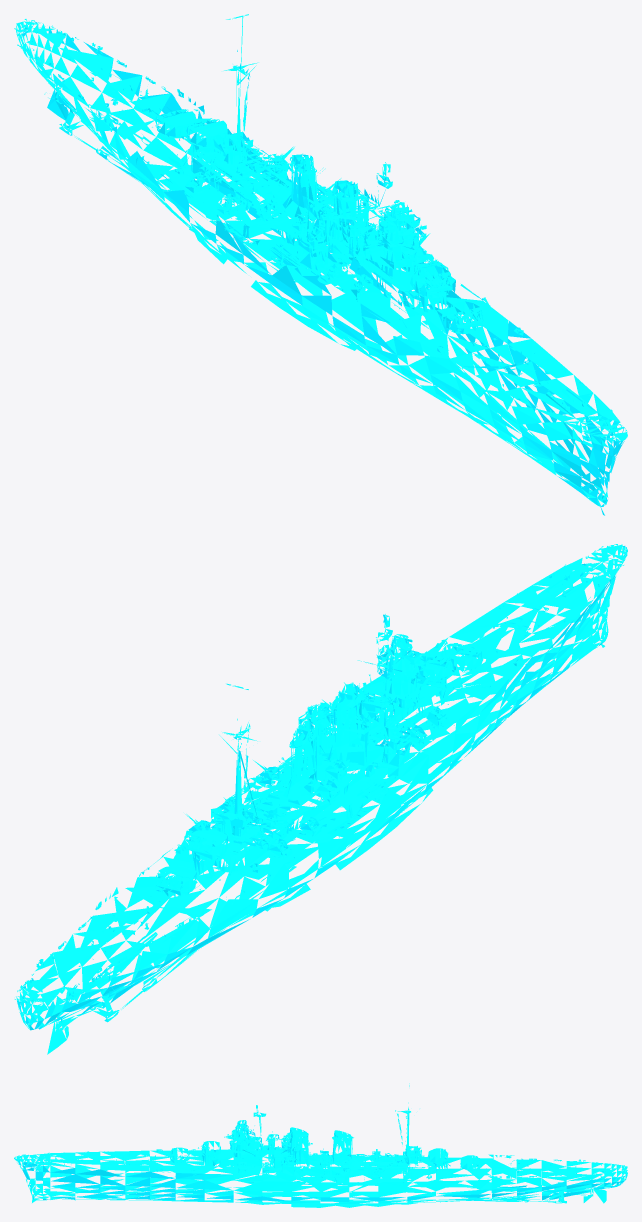
The model's file is Ferrante_Gonzaga.glb.
The picture shows the model from 3 angles, top to bottom: view 1: azimuth 30°, elevation 25°; view 2: azimuth 150°, elevation 25°; view 3: azimuth 270°, elevation 25°; orthographic projection. The views are drawn at different scales.
Size of the model in its own units: 1.48 by 2.64 by 12.46.
